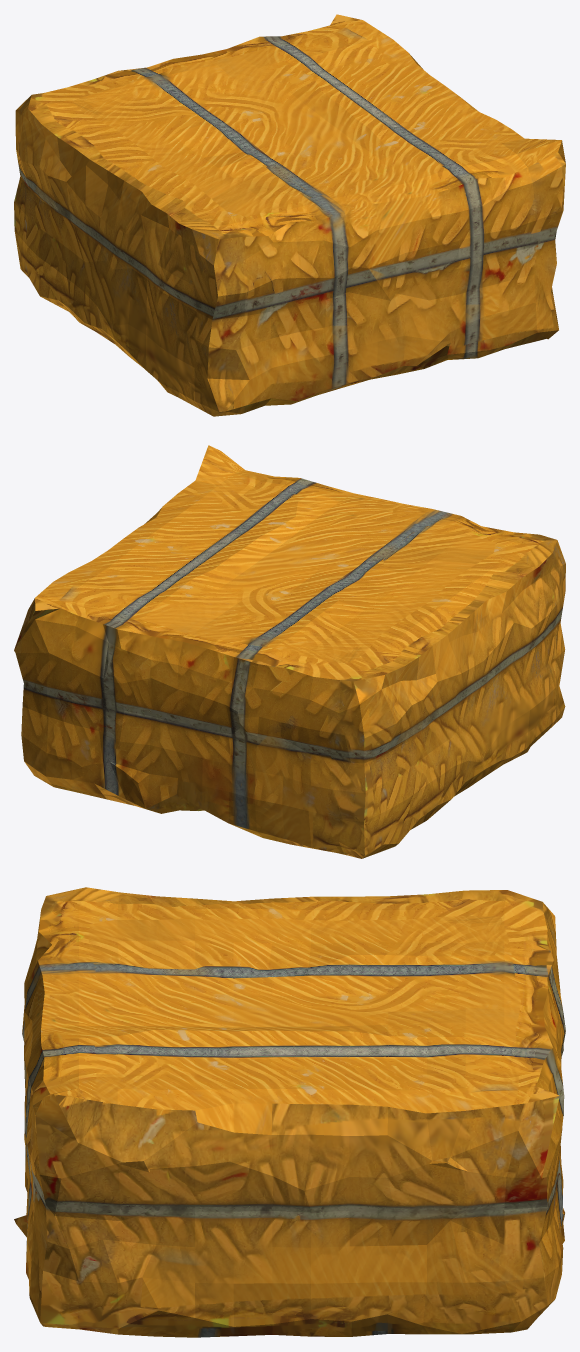
The model's file is 02Hay02 - Copy.fbx.
The picture shows the model from 3 angles, top to bottom: view 1: azimuth 30°, elevation 25°; view 2: azimuth 150°, elevation 25°; view 3: azimuth 270°, elevation 25°; orthographic projection. The views are drawn at different scales.
Parts seen in each view (by area): view 1: temp; view 2: temp; view 3: temp.
Part boxes in pixels (<box>): temp: <box>14,14,565,416</box>; temp: <box>14,445,565,858</box>; temp: <box>14,887,565,1337</box>.
Size of the model in its own units: 148 by 76.44 by 149.
Materials: 1 (1 with a texture image).
